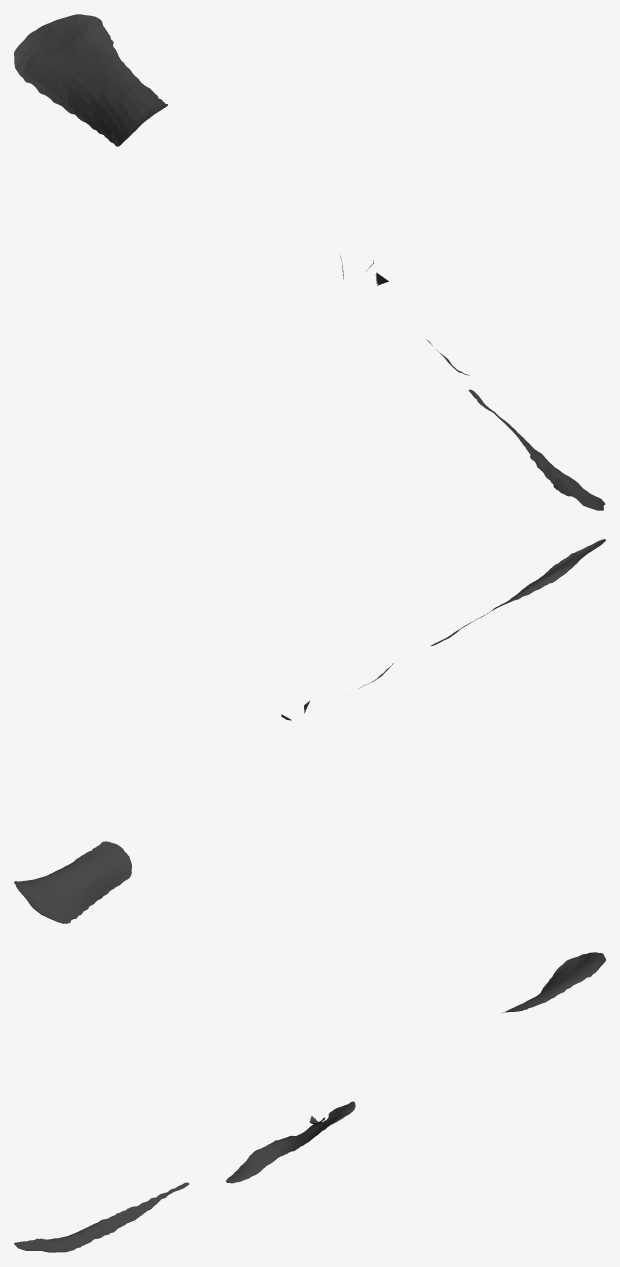
Rendered from tend_DDF.glb.
3 renders of one model, top to bottom at view 1: azimuth 30°, elevation 25°; view 2: azimuth 150°, elevation 25°; view 3: azimuth 330°, elevation 25°, orthographic. The views are drawn at different scales.
Parts seen in each view (by area): view 1: tend_DDF; view 2: tend_DDF; view 3: tend_DDF.
Part boxes in pixels (x1,y1,x2,y2): tend_DDF: (14, 14, 605, 510); tend_DDF: (14, 539, 605, 923); tend_DDF: (14, 952, 605, 1252).
Bounding box in the file's own units: 0.0822 × 0.0414 × 0.5498.
Materials: 1 (1 with a texture image).
